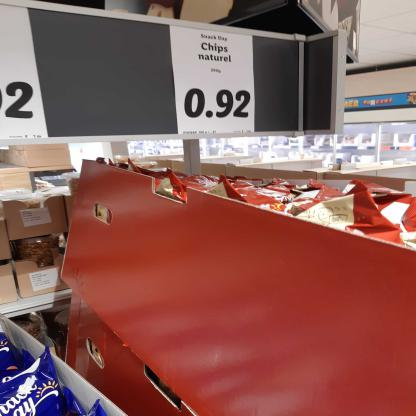prtg: (170, 26, 255, 135), (1, 4, 50, 141)
